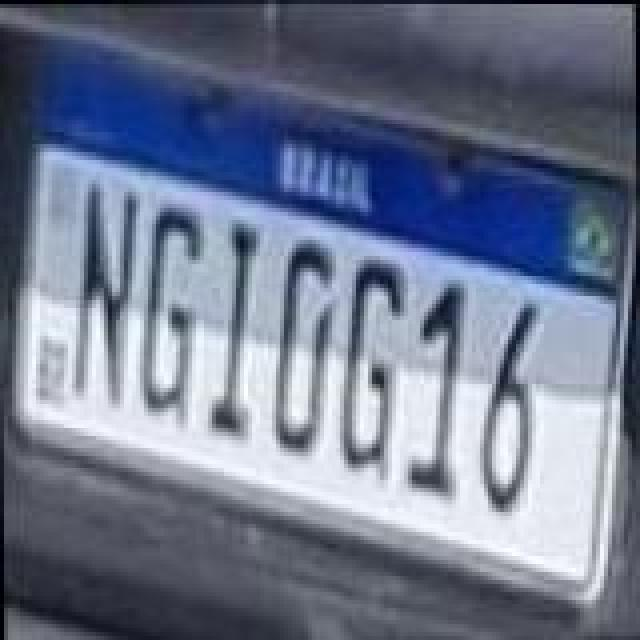1: (408, 276, 476, 508)
6: (474, 302, 546, 510)
D: (266, 234, 342, 458)
G: (140, 200, 212, 432), (332, 254, 404, 486)
I: (200, 212, 264, 444)
N: (64, 176, 144, 408)
